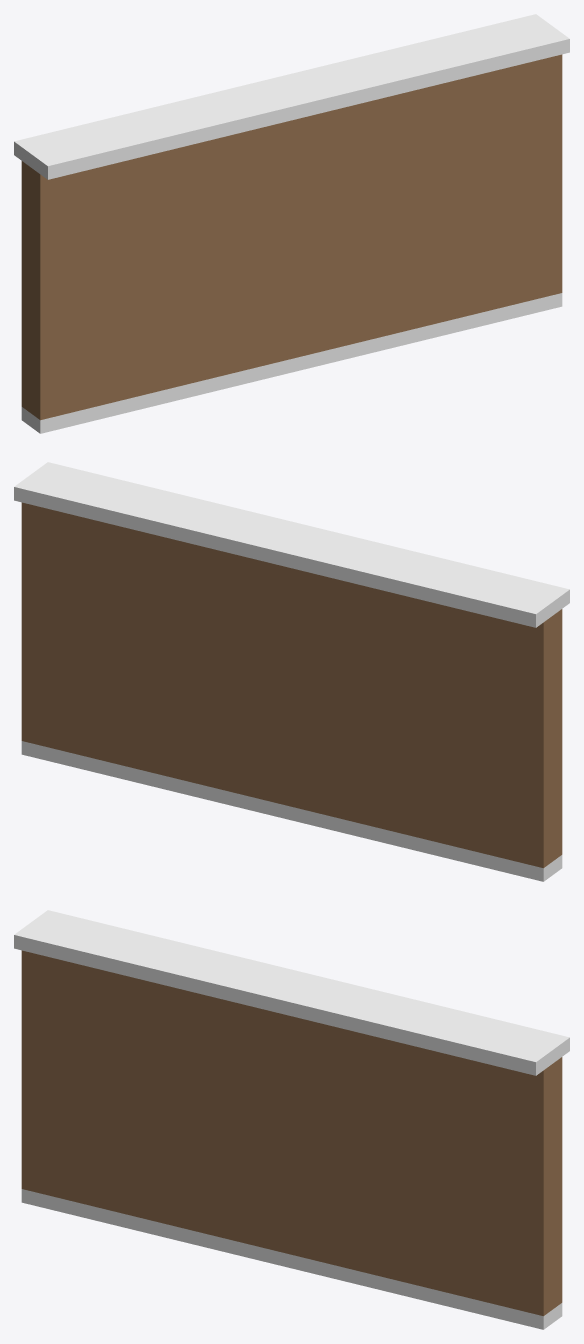
The model's file is SM_4x4m_HalfWall.fbx.
3 views of the same model, one above another, from view 1: azimuth 30°, elevation 25°; view 2: azimuth 150°, elevation 25°; view 3: azimuth 330°, elevation 25° (orthographic).
Parts seen in each view (by area): view 1: SM_4x2m_HalfWall.001; view 2: SM_4x2m_HalfWall.001; view 3: SM_4x2m_HalfWall.001.
Boxes of the visible parts, <box> form: SM_4x2m_HalfWall.001: <box>14,14,569,433</box>; SM_4x2m_HalfWall.001: <box>14,462,569,881</box>; SM_4x2m_HalfWall.001: <box>14,910,569,1329</box>.
Size of the model in its own units: 400 by 45 by 200.
